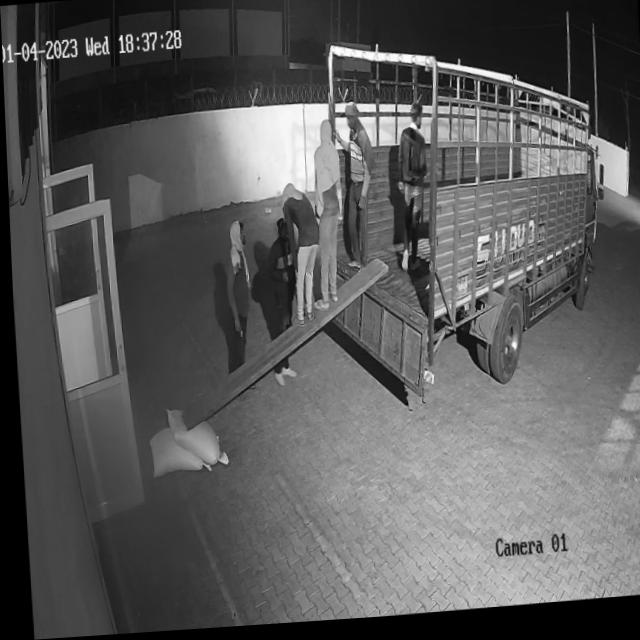sack: (161, 404, 224, 471), (144, 426, 208, 480)
